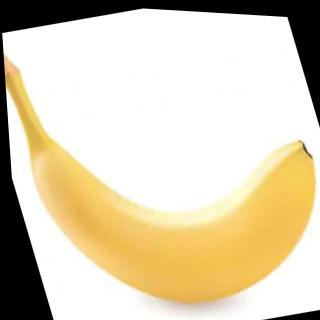banana: (18, 83, 320, 320)
